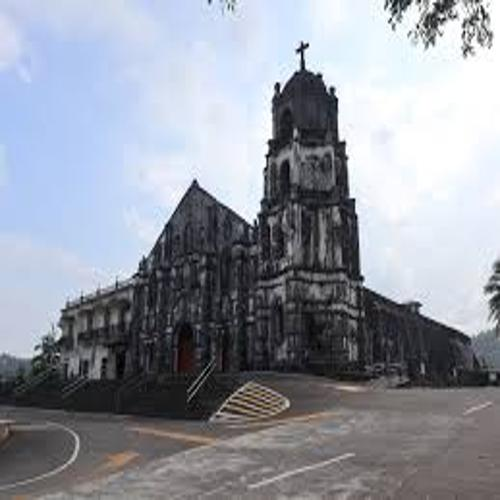Daraga Church: (122, 37, 370, 383)
